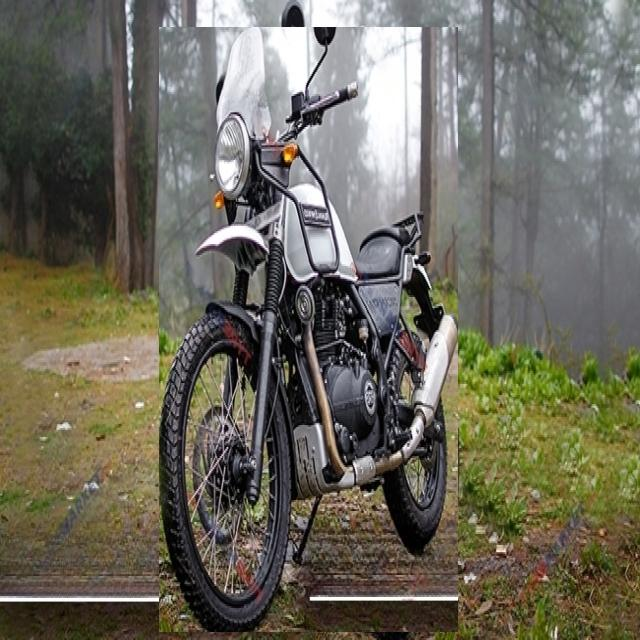motorcycle: (160, 28, 458, 632)
